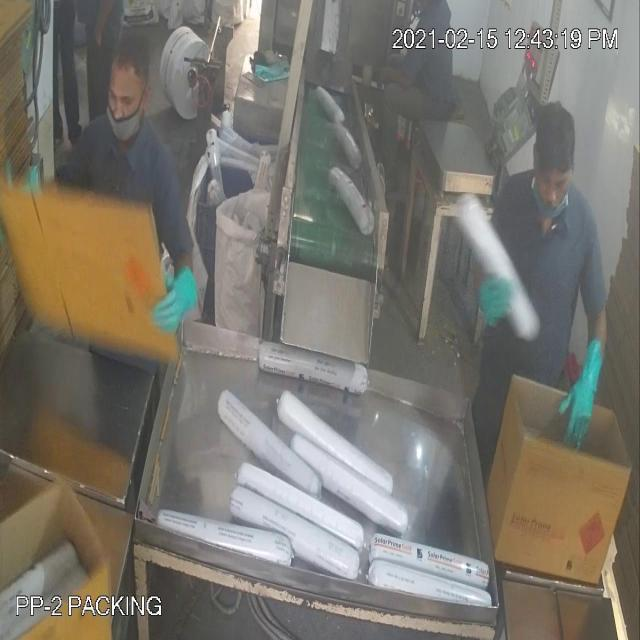No_Gloves: (42, 50, 583, 394)
